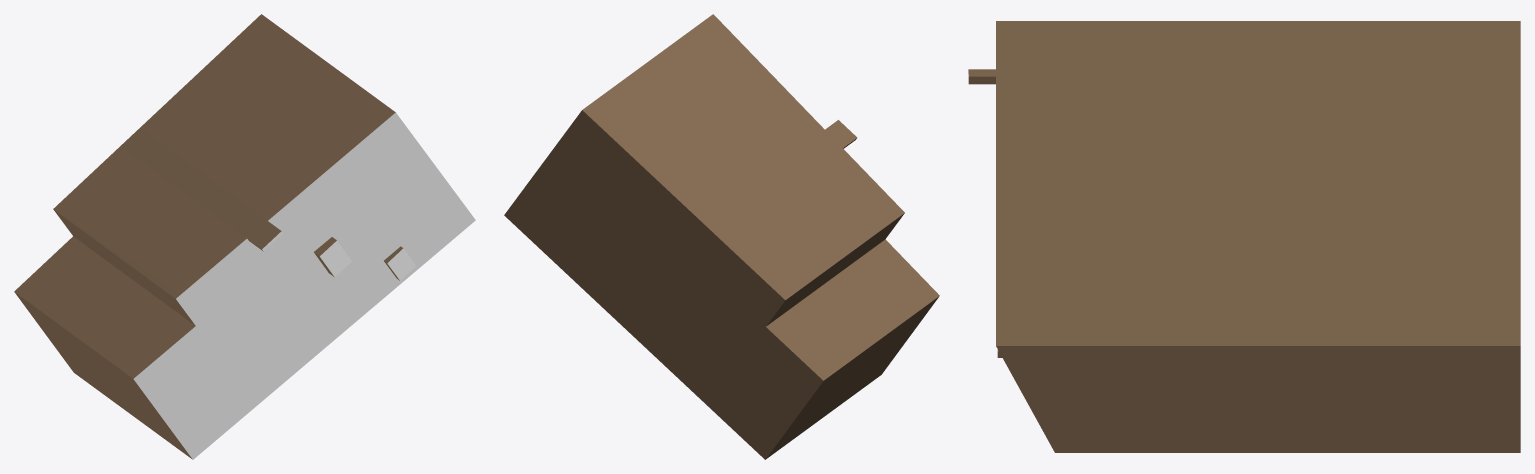
The picture shows the model from 3 angles, left to right: view 1: azimuth 30°, elevation 25°; view 2: azimuth 150°, elevation 25°; view 3: azimuth 270°, elevation 25°; orthographic projection. The views are drawn at different scales.
Visible parts, largest first — view 1: City_PC-16958; view 2: City_PC-16958; view 3: City_PC-16958.
Boxes of the visible parts, left/top/right/bottom form: City_PC-16958: left=14, top=14, right=475, bottom=459; City_PC-16958: left=504, top=14, right=939, bottom=459; City_PC-16958: left=968, top=21, right=1520, bottom=452.
Bounding box in the file's own units: 1589 × 1451 × 1189.
